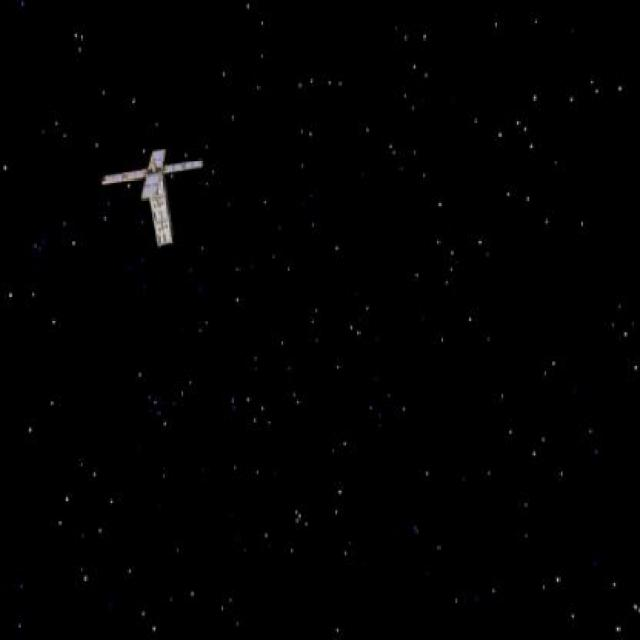satellite: (98, 136, 212, 242)
